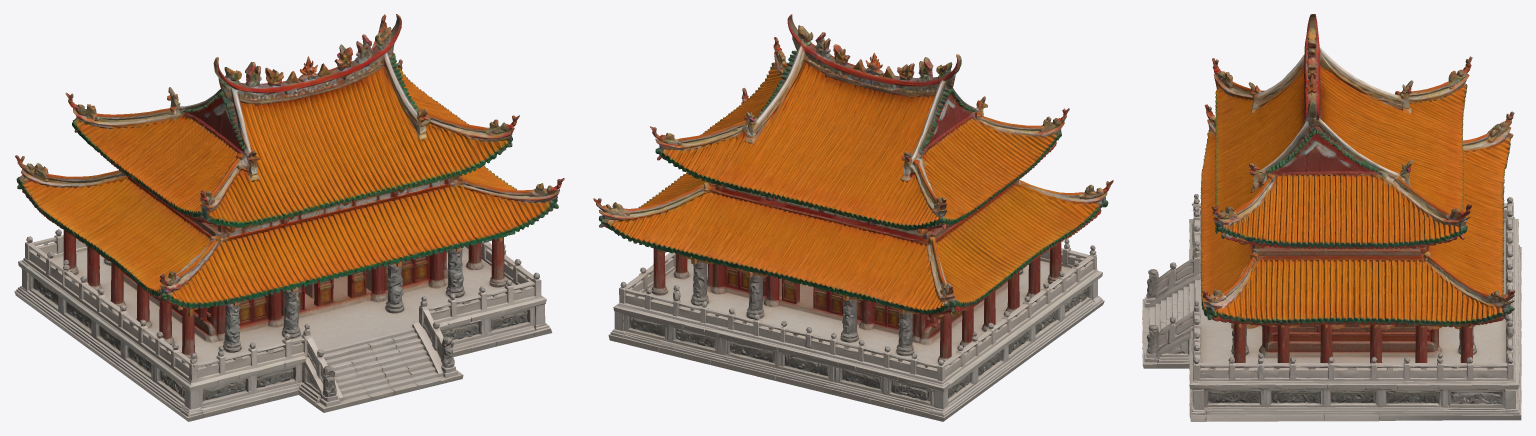
File: main-hall.glb
3 views of the same model, side by side, from view 1: azimuth 30°, elevation 25°; view 2: azimuth 150°, elevation 25°; view 3: azimuth 270°, elevation 25° (orthographic). The views are drawn at different scales.
Parts seen in each view (by area): view 1: model; view 2: model; view 3: model.
Boxes of the visible parts, bbox=[...] form: model: bbox=[14, 14, 564, 421]; model: bbox=[593, 14, 1113, 421]; model: bbox=[1142, 14, 1521, 421].
Size of the model in its own units: 1.9 by 1.33 by 1.62.
Materials: 1 (1 with a texture image).
